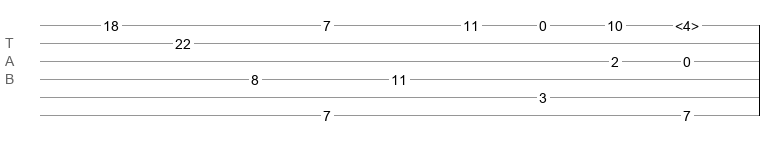0: (539, 18, 547, 28), (683, 54, 691, 64)
10: (607, 18, 623, 28)
11: (391, 72, 407, 82), (463, 18, 479, 28)
18: (103, 18, 119, 28)
2: (611, 54, 619, 64)
22: (175, 36, 191, 46)
3: (539, 90, 547, 100)
7: (323, 18, 331, 28), (323, 108, 331, 118), (683, 108, 691, 118)
8: (251, 72, 259, 82)
harmonic: (675, 18, 699, 28)
